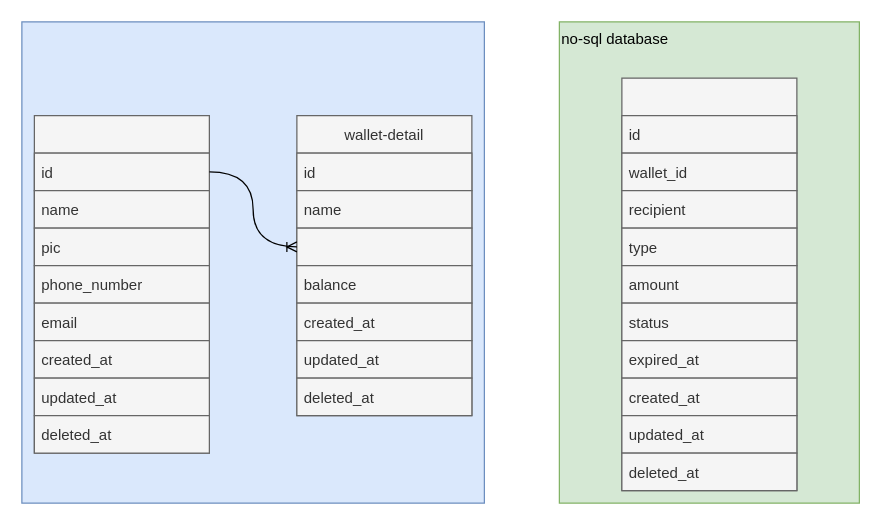
Image size: 881x525. Some labels were removed from this diagram. The shapes that lost their labels are listed below. From the top down, each one's box as (x1, y1, x2, y2) in pixels, then its label:
(21, 21, 484, 503): relational database
(296, 227, 472, 266): organization_id
(33, 114, 209, 453): organization-information
(621, 77, 797, 491): wallet-transaction-history
